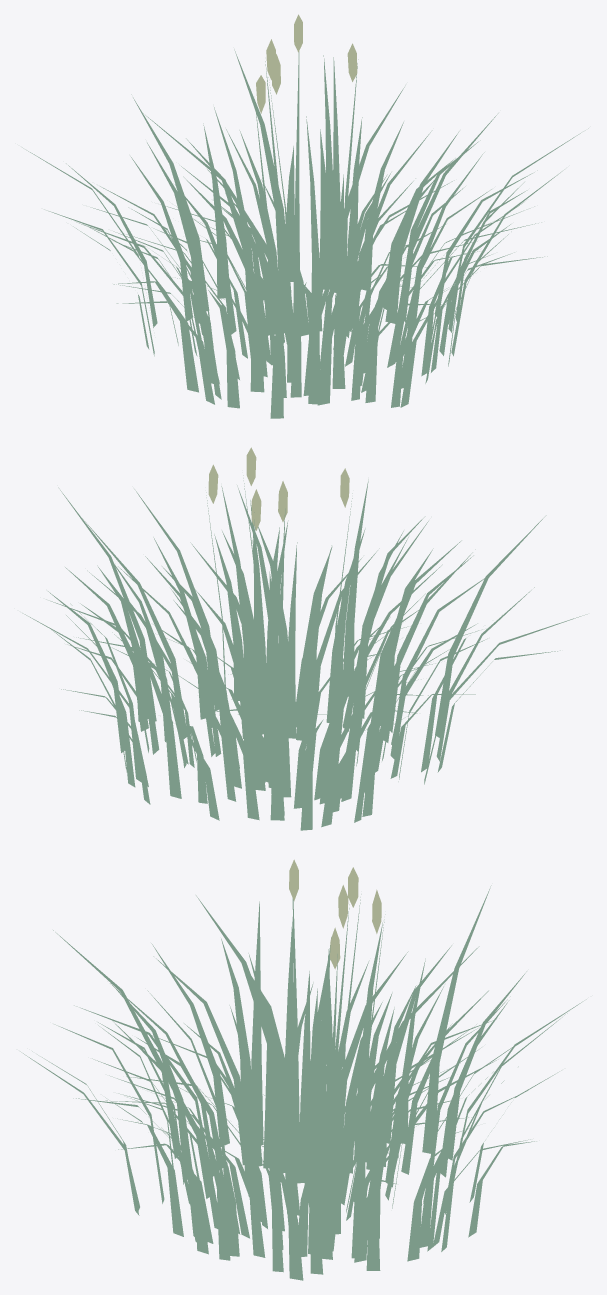
File: Blender_Wheatgrass_2.glb
3 renders of one model, top to bottom at view 1: azimuth 30°, elevation 25°; view 2: azimuth 150°, elevation 25°; view 3: azimuth 270°, elevation 25°, orthographic. The views are drawn at different scales.
Parts seen in each view (by area): view 1: Blender_Wheatgrass_2; view 2: Blender_Wheatgrass_2; view 3: Blender_Wheatgrass_2.
Part boxes in pixels (x1=…): Blender_Wheatgrass_2: x1=22, y1=14, x2=588, y2=418; Blender_Wheatgrass_2: x1=22, y1=447, x2=587, y2=830; Blender_Wheatgrass_2: x1=20, y1=859, x2=586, y2=1280.
Bounding box in the file's own units: 1.08 × 0.6513 × 0.9941.
